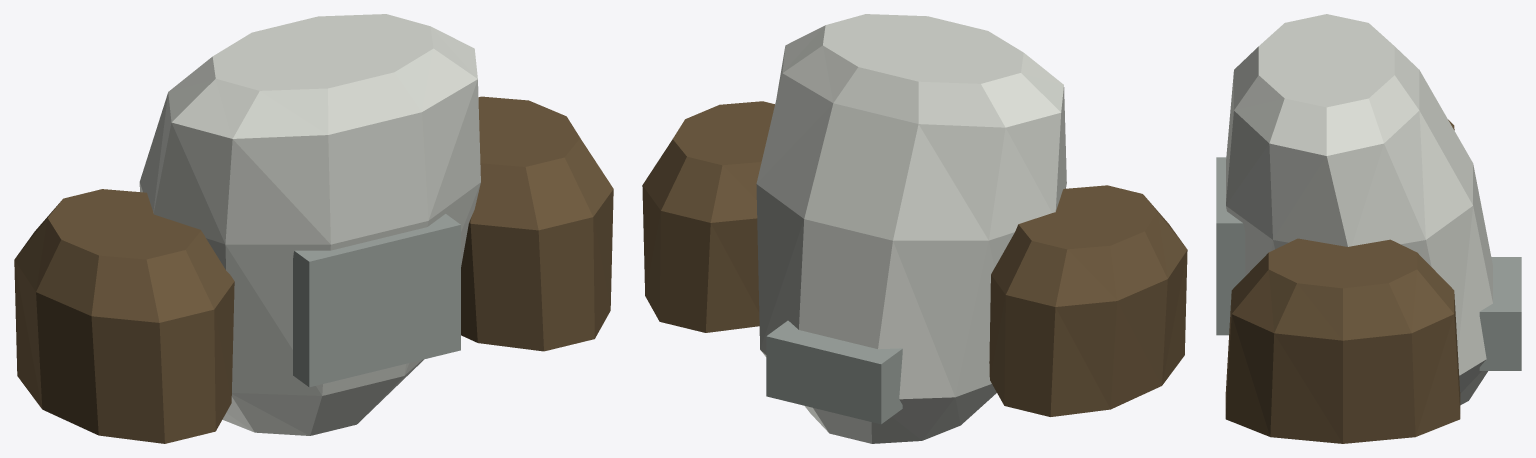
Rendered from constructoid.obj.
3 views of the same model, side by side, from view 1: azimuth 30°, elevation 25°; view 2: azimuth 150°, elevation 25°; view 3: azimuth 270°, elevation 25° (orthographic). The views are drawn at different scales.
Parts seen in each view (by area): view 1: constructoid; view 2: constructoid; view 3: constructoid.
Part boxes in pixels (x1=…): constructoid: x1=14, y1=14, x2=613, y2=443; constructoid: x1=642, y1=14, x2=1187, y2=443; constructoid: x1=1216, y1=14, x2=1521, y2=443.
Size of the model in its own units: 0.88 by 0.56 by 0.47.
